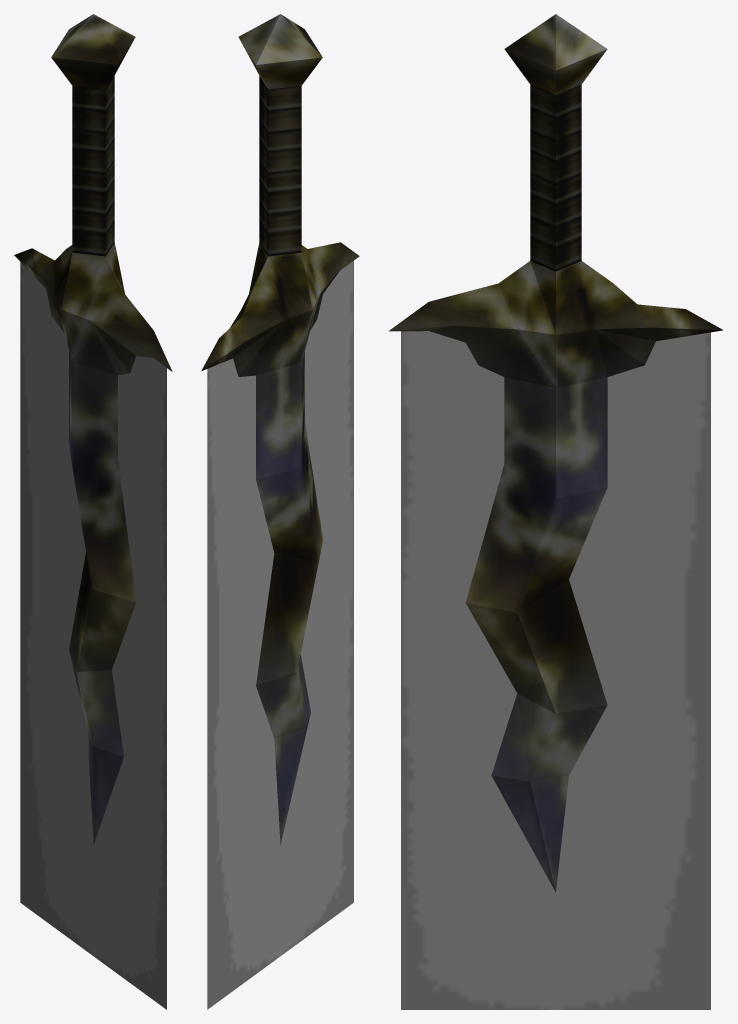
The model's file is twinblade06_1.obj.
3 views of the same model, side by side, from view 1: azimuth 30°, elevation 25°; view 2: azimuth 150°, elevation 25°; view 3: azimuth 270°, elevation 25° (orthographic). The views are drawn at different scales.
Parts seen in each view (by area): view 1: cwdhsw06_1l; view 2: cwdhsw06_1l; view 3: cwdhsw06_1l.
Boxes of the visible parts, x1,y1,x2,y2 form: cwdhsw06_1l: (14,14,172,1009); cwdhsw06_1l: (201,14,359,1009); cwdhsw06_1l: (389,14,723,1009).
Bounding box in the file's own units: 0.0798 × 0.8499 × 0.2597.
